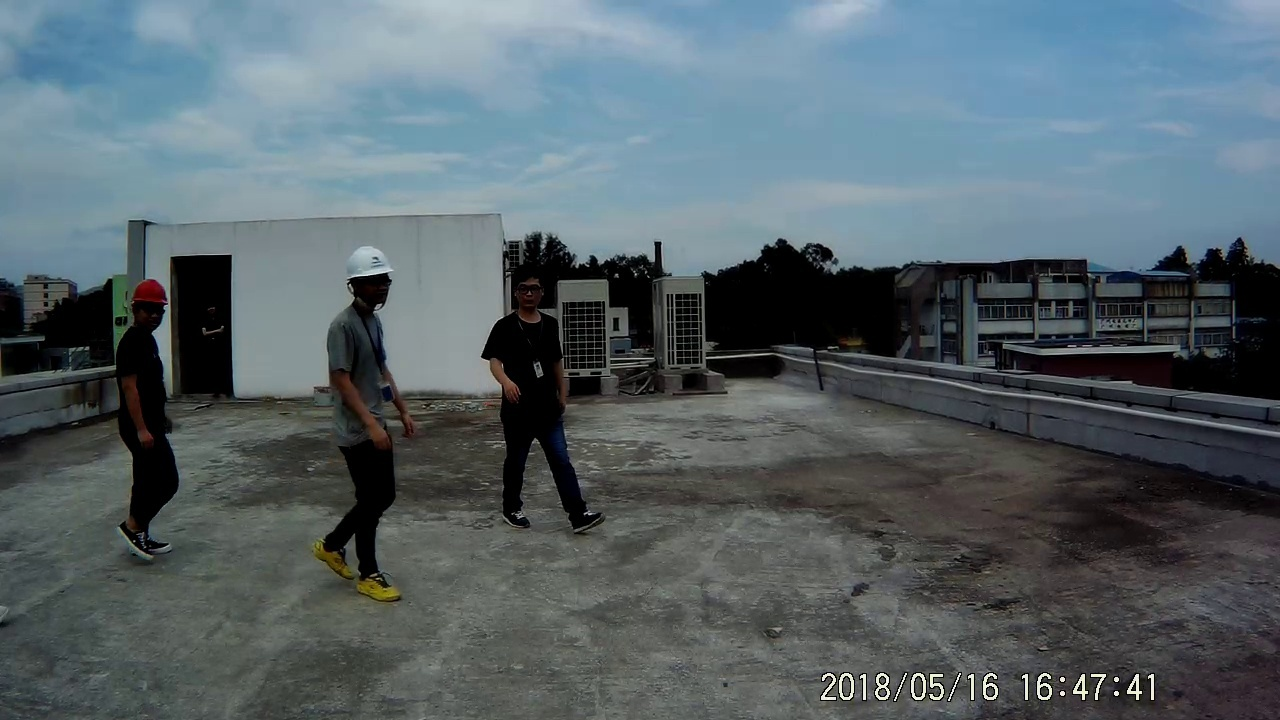none: (502, 260, 550, 317)
red: (125, 274, 169, 334)
white: (341, 244, 396, 314)
